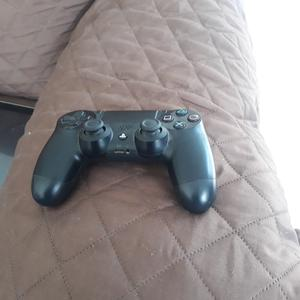controller: (31, 109, 215, 214)
